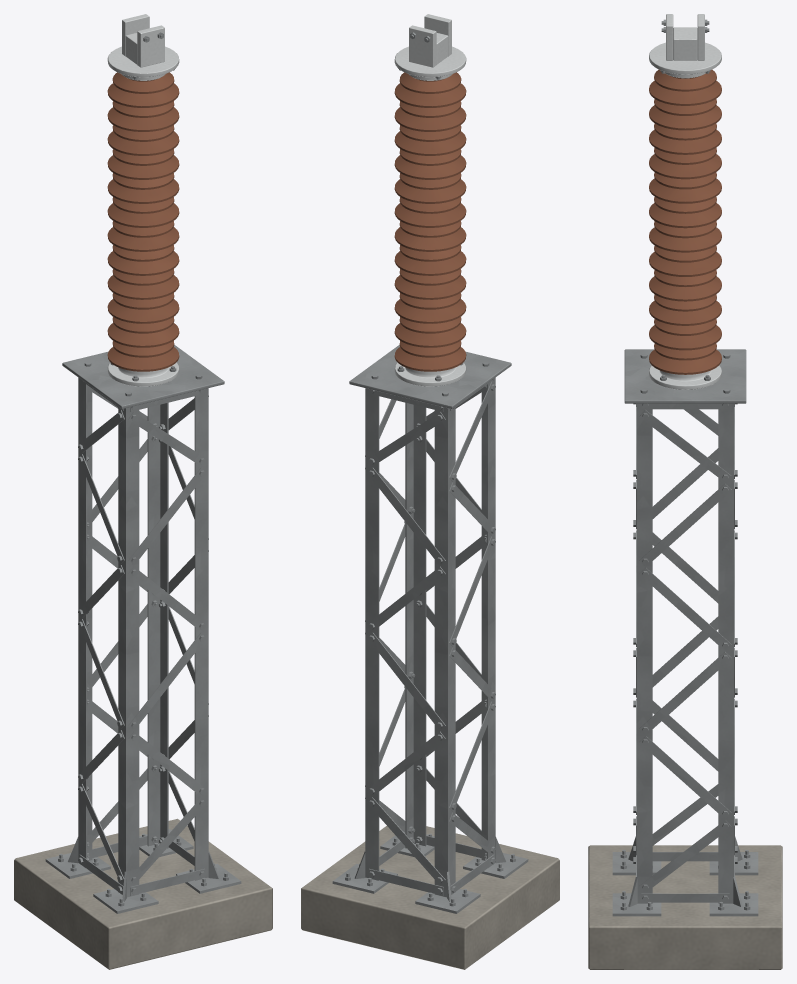
Rendered from PostInsulator_138kV.fbx.
3 renders of one model, left to right at view 1: azimuth 30°, elevation 25°; view 2: azimuth 150°, elevation 25°; view 3: azimuth 270°, elevation 25°, orthographic.
Parts seen in each view (by area): view 1: Body_GalvanizedSteel_LOD0, Body_PorcelainBrown_LOD0, Body_Concrete_LOD0, Body_Aluminium_LOD0; view 2: Body_GalvanizedSteel_LOD0, Body_PorcelainBrown_LOD0, Body_Concrete_LOD0, Body_Aluminium_LOD0; view 3: Body_GalvanizedSteel_LOD0, Body_PorcelainBrown_LOD0, Body_Concrete_LOD0, Body_Aluminium_LOD0.
Part boxes in pixels (<box>): Body_GalvanizedSteel_LOD0: <box>45,32,241,913</box>; Body_PorcelainBrown_LOD0: <box>107,72,179,371</box>; Body_Concrete_LOD0: <box>14,818,272,969</box>; Body_Aluminium_LOD0: <box>107,14,179,386</box>; Body_GalvanizedSteel_LOD0: <box>332,32,528,913</box>; Body_PorcelainBrown_LOD0: <box>394,72,466,371</box>; Body_Concrete_LOD0: <box>301,826,559,969</box>; Body_Aluminium_LOD0: <box>394,14,466,386</box>; Body_GalvanizedSteel_LOD0: <box>612,19,758,916</box>; Body_PorcelainBrown_LOD0: <box>649,69,721,374</box>; Body_Concrete_LOD0: <box>588,845,782,969</box>; Body_Aluminium_LOD0: <box>649,14,721,389</box>.
Size of what is drawn, in the model's own units: 0.8 by 4.13 by 0.8.
